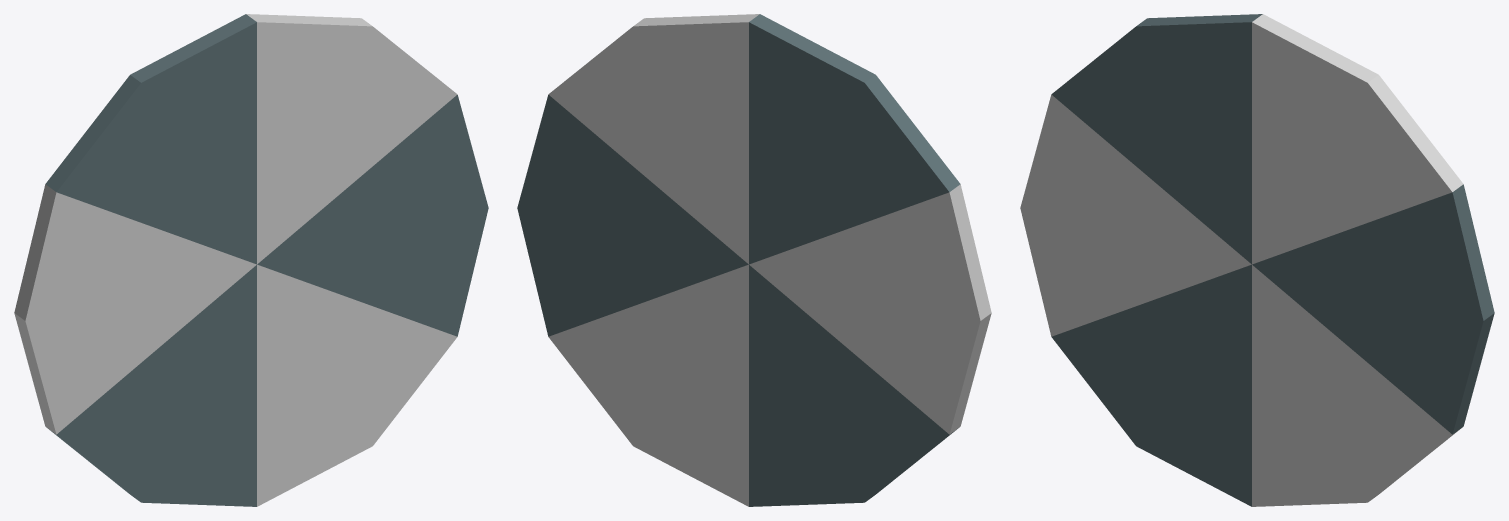
The model's file is scifi_door_2.fbx.
3 renders of one model, left to right at view 1: azimuth 30°, elevation 25°; view 2: azimuth 150°, elevation 25°; view 3: azimuth 330°, elevation 25°, orthographic.
Visible parts, largest first — view 1: Circle.001, Circle.002, Circle.005, Circle.006, Circle.003, Circle.004; view 2: Circle.001, Circle.002, Circle.005, Circle.006, Circle.003, Circle.004; view 3: Circle.005, Circle.006, Circle.001, Circle.002, Circle.004, Circle.003.
Boxes of the visible parts, left/top/right/bottom form: Circle.001: left=45, top=14, right=256, bottom=264; Circle.002: left=14, top=184, right=256, bottom=434; Circle.005: left=246, top=14, right=457, bottom=264; Circle.006: left=257, top=95, right=488, bottom=336; Circle.003: left=49, top=265, right=256, bottom=506; Circle.004: left=257, top=264, right=457, bottom=506; Circle.001: left=749, top=14, right=960, bottom=264; Circle.002: left=749, top=184, right=991, bottom=434; Circle.005: left=548, top=14, right=759, bottom=264; Circle.006: left=517, top=95, right=748, bottom=336; Circle.003: left=749, top=265, right=956, bottom=506; Circle.004: left=548, top=264, right=748, bottom=506; Circle.005: left=1252, top=14, right=1463, bottom=264; Circle.006: left=1252, top=184, right=1494, bottom=434; Circle.001: left=1051, top=14, right=1262, bottom=264; Circle.002: left=1020, top=95, right=1251, bottom=336; Circle.004: left=1252, top=265, right=1459, bottom=506; Circle.003: left=1051, top=264, right=1251, bottom=506.
Size of the model in its own units: 2.4 by 2.4 by 0.1.
